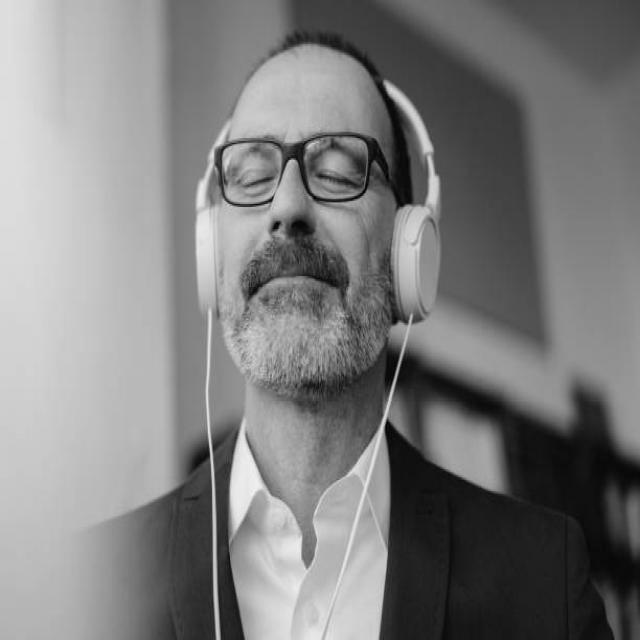real: (217, 96, 398, 387), (205, 104, 394, 238)
